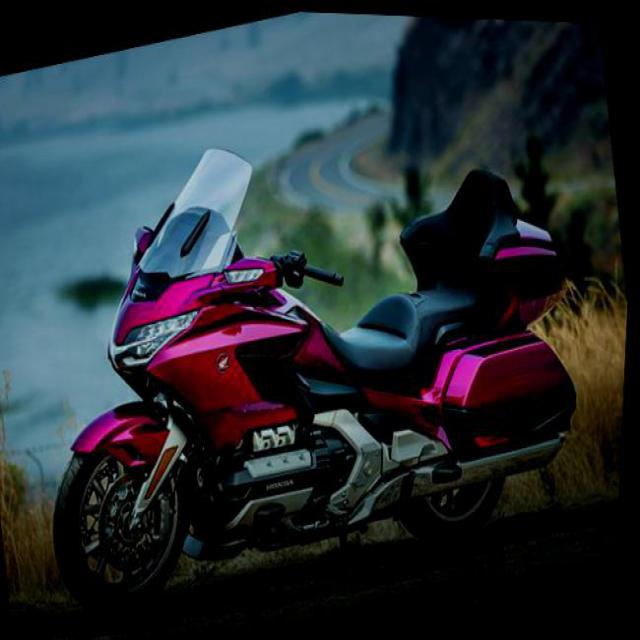Gold Wing: (2, 52, 609, 639)
